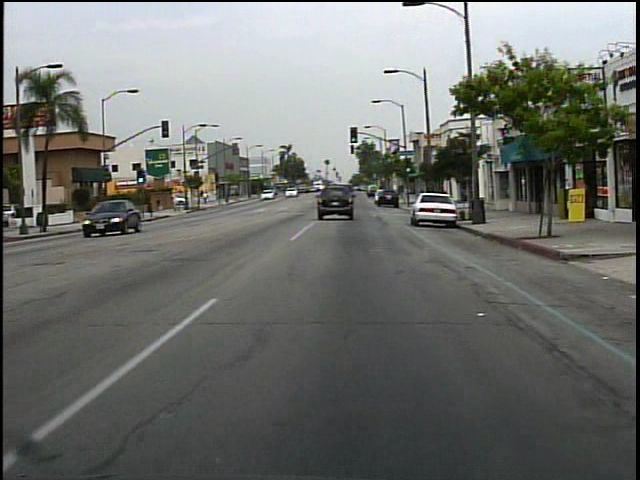person: (202, 189, 211, 207)
